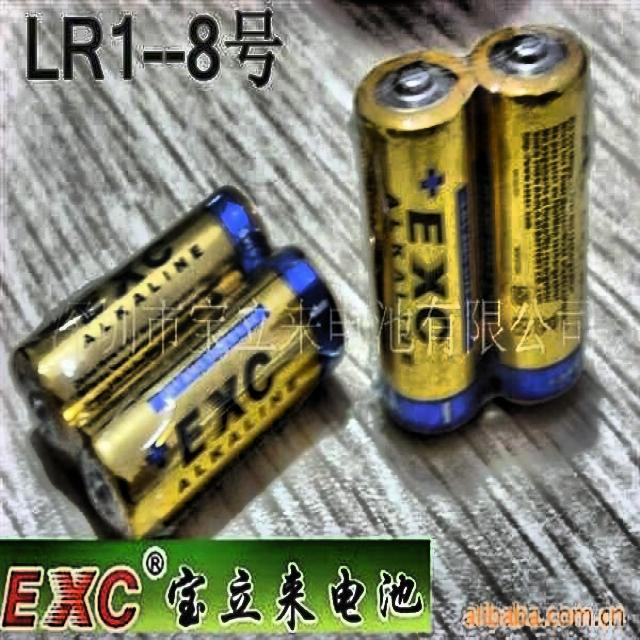Non-Valuable Waste - Batteries: (74, 248, 342, 536), (16, 188, 268, 458), (356, 50, 479, 432), (471, 25, 588, 402)
